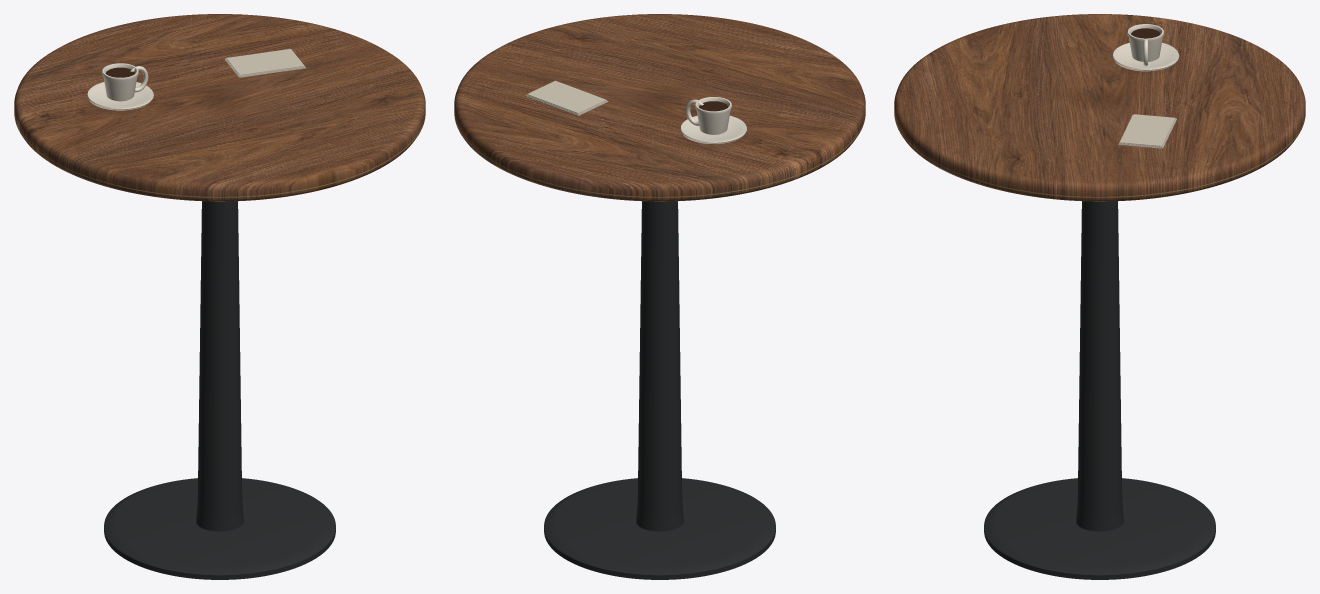
File: cafe-table.2cbd4485102b.glb
3 renders of one model, left to right at view 1: azimuth 30°, elevation 25°; view 2: azimuth 150°, elevation 25°; view 3: azimuth 270°, elevation 25°, orthographic.
Parts seen in each view (by area): view 1: walnut_tabletop, weighted_base, pedestal, linen_fold_2, espresso_saucer, espresso_cup, brass_edge_inlay; view 2: walnut_tabletop, weighted_base, pedestal, linen_fold_2, espresso_saucer, espresso_cup, brass_edge_inlay; view 3: walnut_tabletop, weighted_base, pedestal, linen_fold_2, espresso_saucer, espresso_cup, brass_edge_inlay.
Part boxes in pixels (x1,y1,x2,y2): walnut_tabletop: (14,14,425,201); weighted_base: (104,478,335,579); pedestal: (196,201,243,531); linen_fold_2: (226,49,304,75); espresso_saucer: (87,82,153,110); espresso_cup: (102,63,138,101); brass_edge_inlay: (14,114,425,197); walnut_tabletop: (454,14,865,201); weighted_base: (544,478,775,579); pedestal: (636,201,683,531); linen_fold_2: (527,80,606,113); espresso_saucer: (680,115,746,143); espresso_cup: (695,97,731,134); brass_edge_inlay: (454,114,865,197); walnut_tabletop: (894,14,1305,201); weighted_base: (984,478,1215,579); pedestal: (1076,201,1123,531); linen_fold_2: (1120,114,1175,146); espresso_saucer: (1112,43,1179,71); espresso_cup: (1127,24,1164,61); brass_edge_inlay: (894,114,1305,197).
Bounding box in the file's own units: 0.6282 × 0.7815 × 0.6282.
7 materials, 2 textured.
